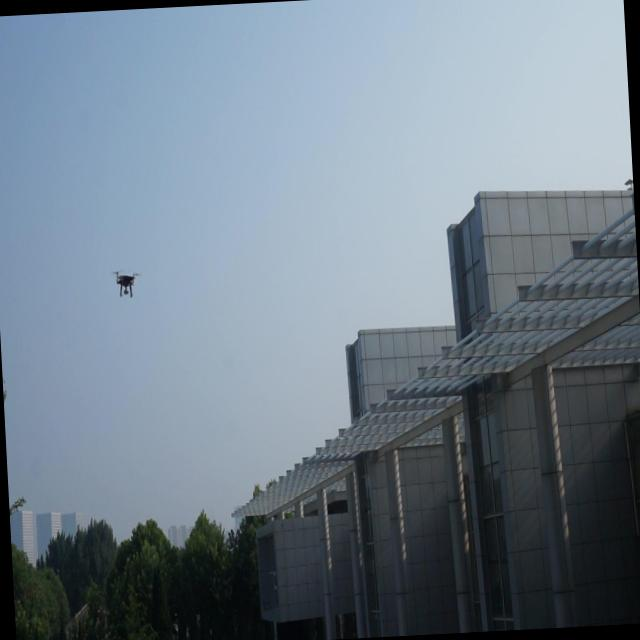drone: (109, 266, 145, 300)
